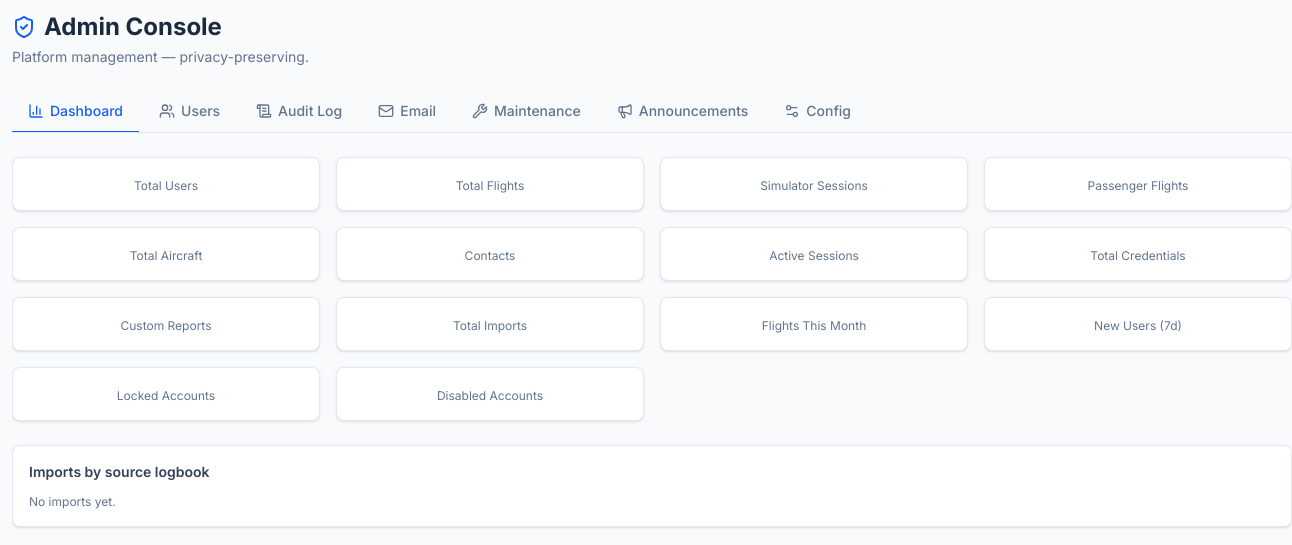
Scenario: AdminPage — email deliverability › states plainly that delivered does not mean the message reached an inbox
Click the button "Email": (407, 112) [362,91,452,133]
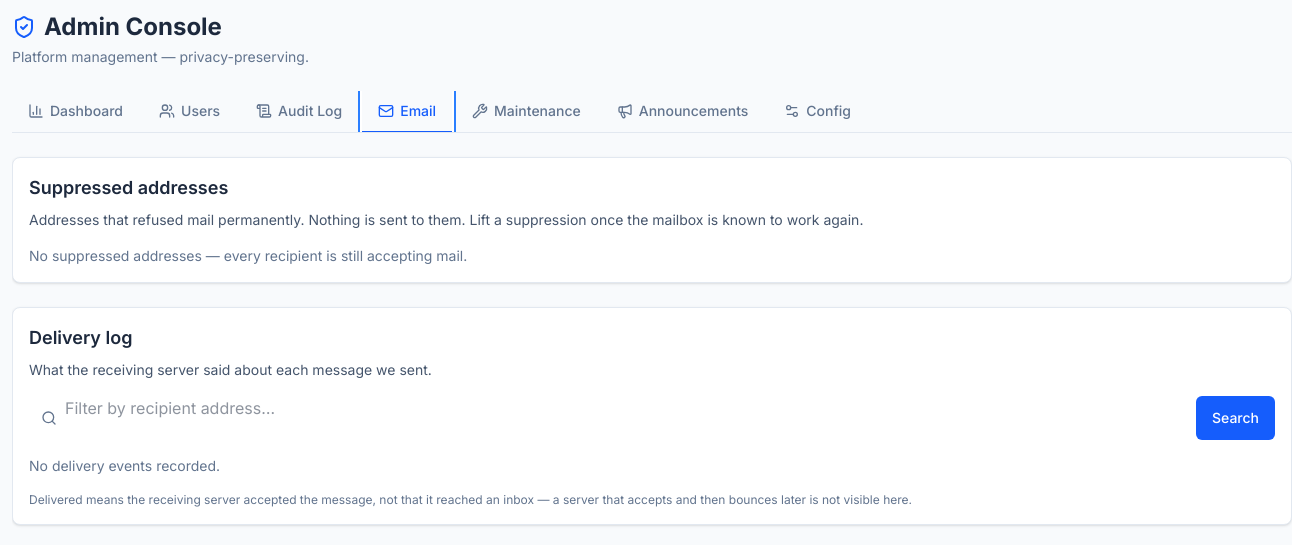
Now the text "not that it reached an inbox" is shown, box [29,492,912,507]
